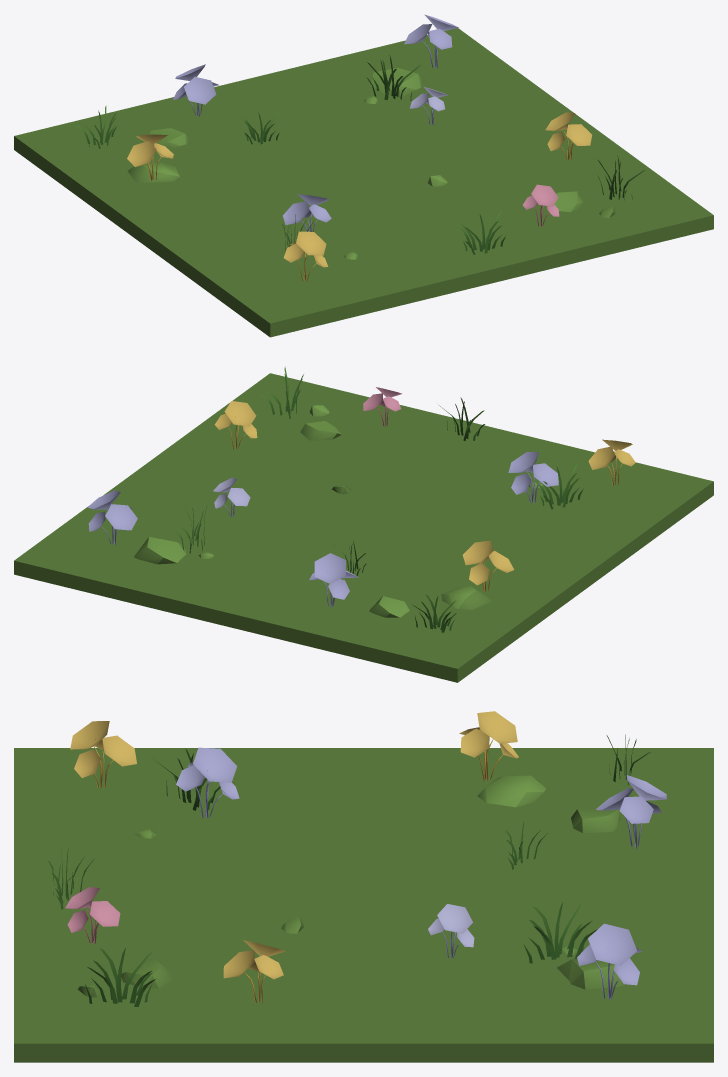
Rendered from floor_c.fbx.
3 views of the same model, one above another, from view 1: azimuth 30°, elevation 25°; view 2: azimuth 150°, elevation 25°; view 3: azimuth 270°, elevation 25° (orthographic). The views are drawn at different scales.
Parts seen in each view (by area): view 1: floor_c; view 2: floor_c; view 3: floor_c.
Part boxes in pixels (x1,y1,x2,y2): floor_c: (14,14,713,337); floor_c: (14,366,713,682); floor_c: (14,711,713,1062).
Size of the model in its own units: 4 by 0.5969 by 4.
